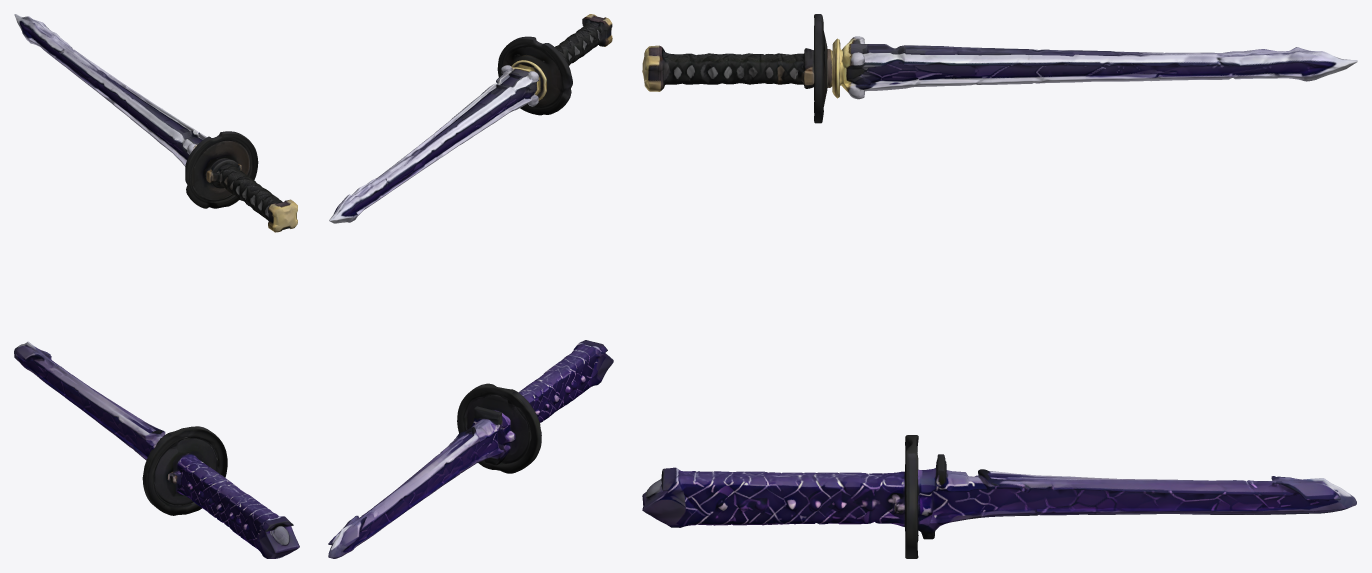
3 views of the same model, side by side, from view 1: azimuth 30°, elevation 25°; view 2: azimuth 150°, elevation 25°; view 3: azimuth 270°, elevation 25° (orthographic). The views are drawn at different scales.
Parts seen in each view (by area): view 1: tripo_node_c9cae674-2f4d-49b5-8632-59f2a5caa740; view 2: tripo_node_c9cae674-2f4d-49b5-8632-59f2a5caa740; view 3: tripo_node_c9cae674-2f4d-49b5-8632-59f2a5caa740.
Part boxes in pixels (left/top/right/bottom): tripo_node_c9cae674-2f4d-49b5-8632-59f2a5caa740: left=14, top=14, right=299, bottom=558; tripo_node_c9cae674-2f4d-49b5-8632-59f2a5caa740: left=328, top=14, right=613, bottom=558; tripo_node_c9cae674-2f4d-49b5-8632-59f2a5caa740: left=642, top=14, right=1357, bottom=558.
Bounding box in the file's own units: 0.1786 × 0.85 × 1.03.
1 material, 1 textured.
